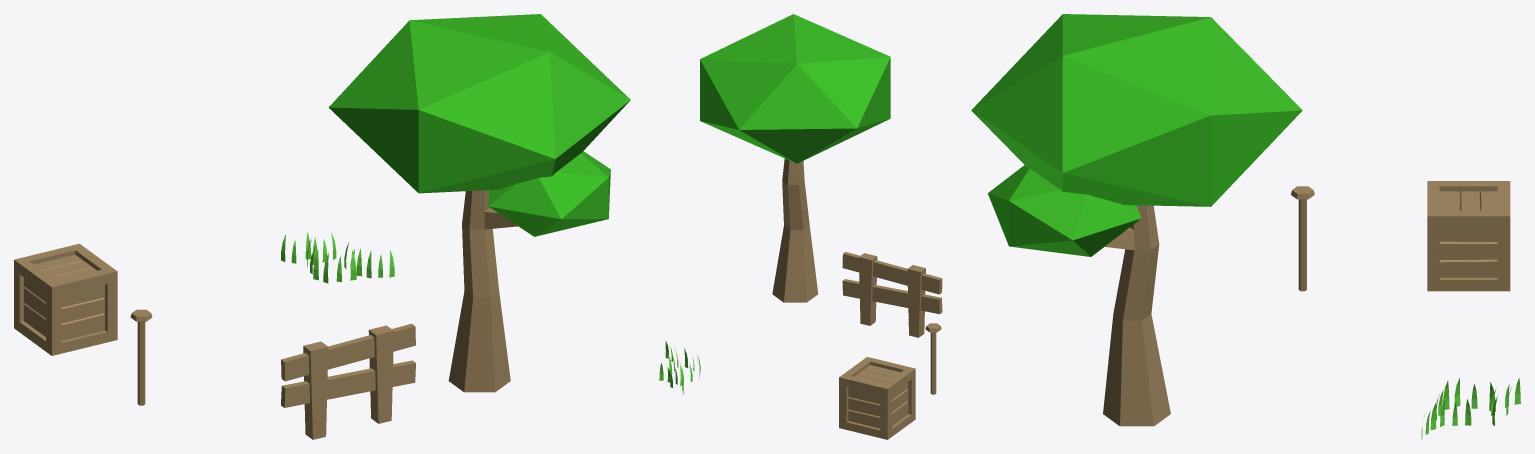
The model's file is Tree fence crate grass torch.fbx.
3 renders of one model, left to right at view 1: azimuth 30°, elevation 25°; view 2: azimuth 150°, elevation 25°; view 3: azimuth 270°, elevation 25°, orthographic. The views are drawn at different scales.
Visible parts, largest first — view 1: Tree, Crate, Fence, Grass, Torch; view 2: Tree, Crate, Fence, Grass, Torch; view 3: Tree, Crate, Grass, Torch.
Part boxes in pixels (x1,y1,x2,y2): Tree: (328,14,630,392); Crate: (14,243,117,355); Fence: (281,323,415,439); Grass: (281,231,394,283); Torch: (130,309,152,405); Tree: (700,14,890,302); Crate: (839,357,915,439); Fence: (842,251,942,337); Grass: (659,340,700,394); Torch: (925,323,941,394); Tree: (971,14,1302,426); Crate: (1427,181,1510,291); Grass: (1421,377,1520,439); Torch: (1291,186,1314,291).
Bounding box in the file's own units: 314 × 262 × 331.
